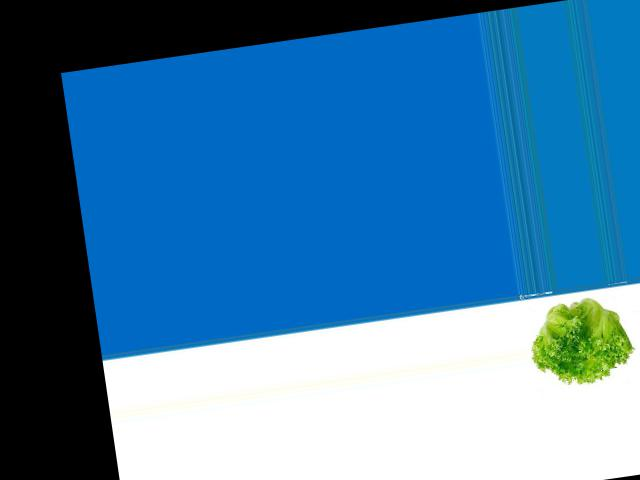lettuce: (524, 287, 635, 393)
